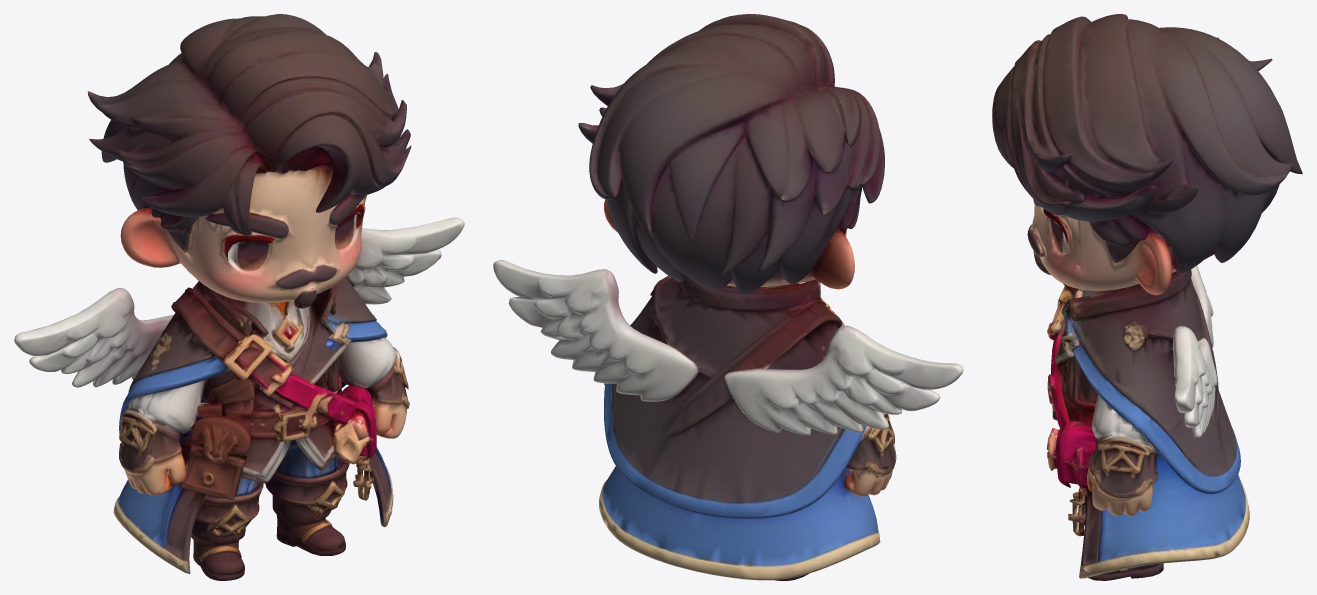
Rendered from Kragor-transformed.glb.
The picture shows the model from 3 angles, left to right: view 1: azimuth 30°, elevation 25°; view 2: azimuth 150°, elevation 25°; view 3: azimuth 270°, elevation 25°; orthographic projection.
Parts seen in each view (by area): view 1: node_0; view 2: node_0; view 3: node_0.
Part boxes in pixels (bbox=[...]): node_0: bbox=[14, 14, 464, 580]; node_0: bbox=[493, 14, 963, 580]; node_0: bbox=[992, 14, 1302, 580].
Size of the model in its own units: 1.06 by 1.14 by 0.6142.
Materials: 1 (1 with a texture image).
